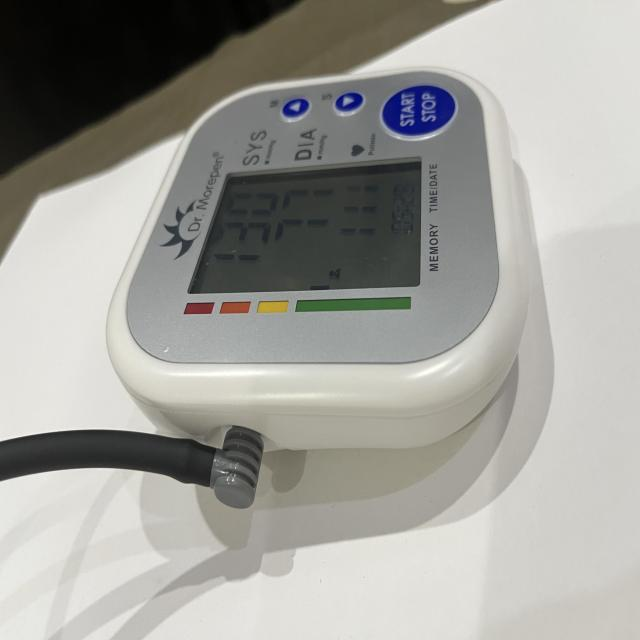bp: (105, 69, 543, 454)
